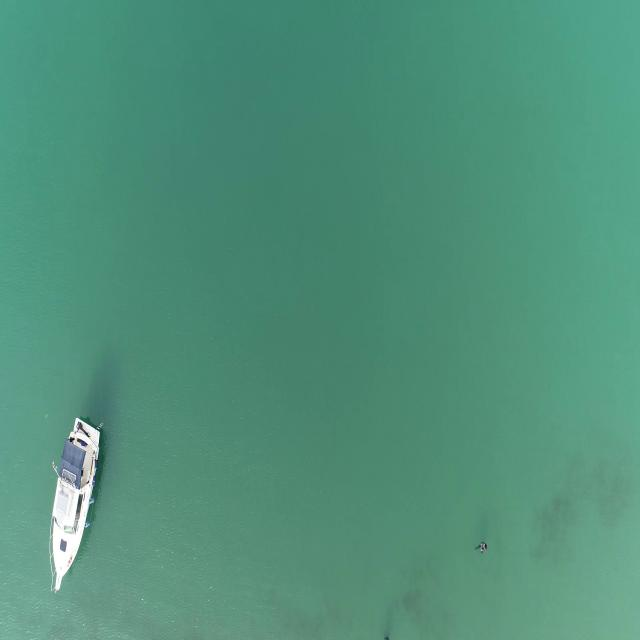boat: (44, 416, 106, 595)
person: (474, 536, 489, 559)
